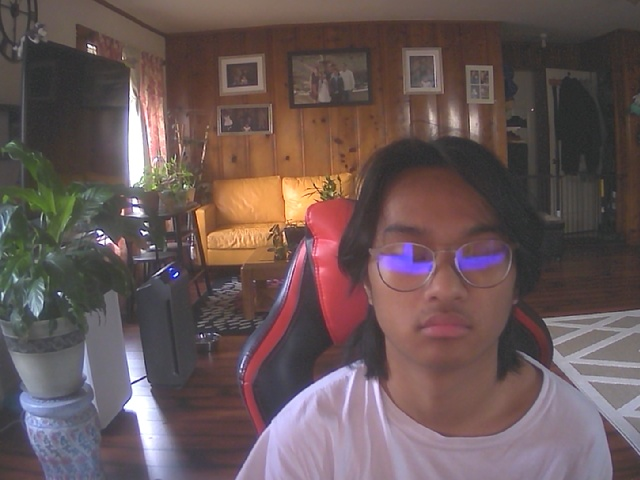neutral: (359, 144, 531, 372)
